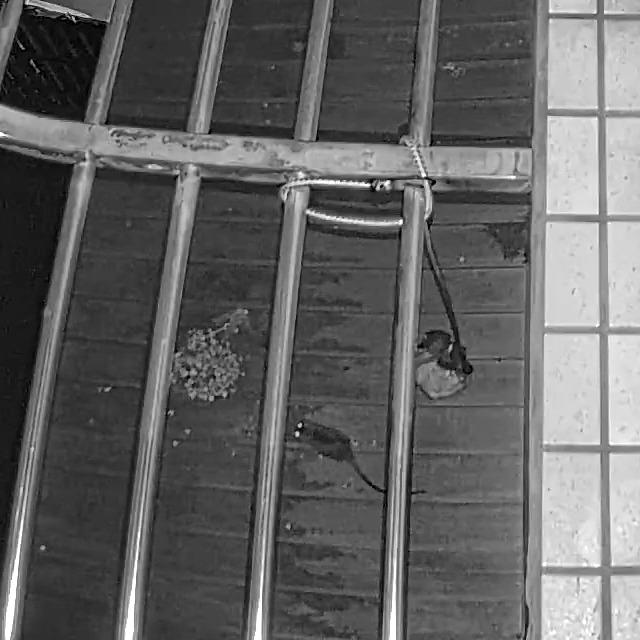rat: (292, 419, 428, 498)
